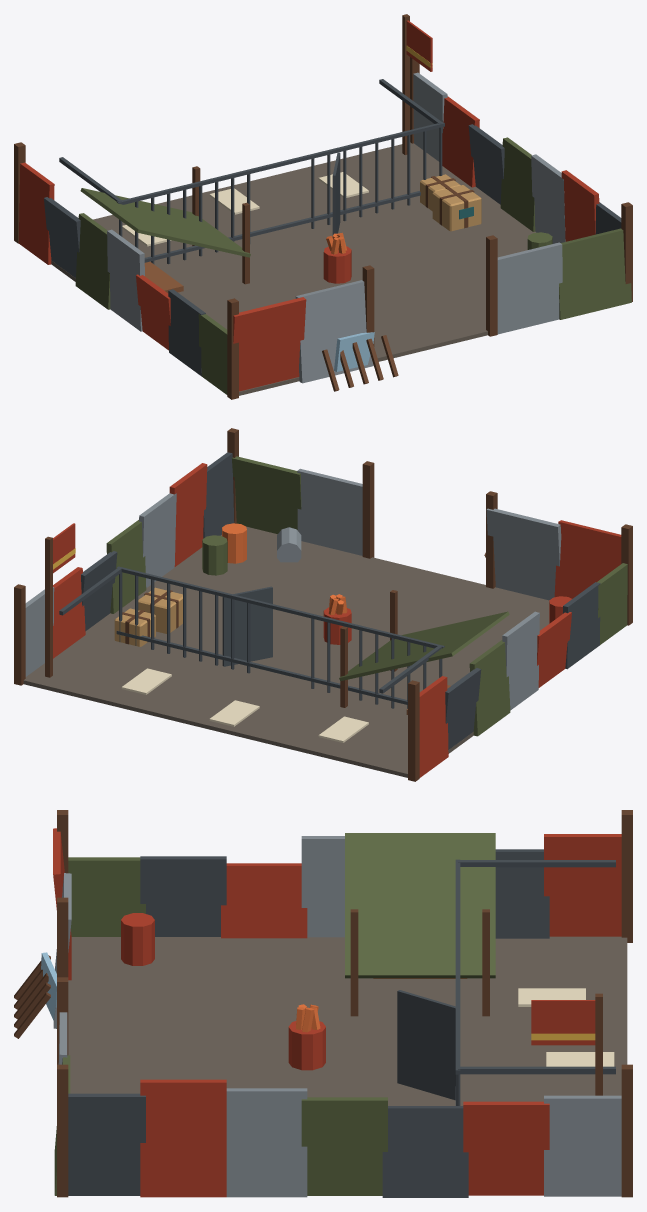
File: Bldg_RaiderCamp.fbx
3 renders of one model, top to bottom at view 1: azimuth 30°, elevation 25°; view 2: azimuth 150°, elevation 25°; view 3: azimuth 270°, elevation 25°, orthographic. The views are drawn at different scales.
Visible parts, largest first — view 1: Ground, Decor, Barricade1, Barricade4, Barricade3, Barricade2, Barricade8, Barricade11, Barricade9, Barricade15, Barricade14, Barricade17 (+11 smaller); view 2: Ground, Decor, Barricade2, Barricade3, Barricade4, Barricade1, Barricade13, Barricade8, Barricade9, Barricade14, Barricade11, Barricade6 (+13 smaller); view 3: Ground, Decor, Barricade13, Barricade14, Barricade15, Barricade17, Barricade12, Barricade18, Barricade16, Barricade11, Barricade6, Barricade7 (+7 smaller).
Boxes of the visible parts, box(x1,y1,x2,y2) form: Ground: box(51, 142, 535, 395); Decor: box(14, 14, 632, 399); Barricade1: box(233, 297, 306, 391); Barricade4: box(559, 228, 631, 319); Barricade3: box(497, 242, 562, 334); Barricade2: box(295, 280, 373, 383); Barricade8: box(107, 229, 144, 331); Barricade11: box(18, 162, 54, 264); Barricade9: box(75, 213, 110, 309); Barricade15: box(500, 137, 535, 231); Barricade14: box(531, 154, 565, 243); Barricade17: box(442, 96, 479, 187); Ground: box(23, 526, 549, 777); Decor: box(14, 428, 632, 781); Barricade2: box(486, 508, 561, 600); Barricade3: box(297, 468, 362, 555); Barricade4: box(232, 456, 301, 534); Barricade1: box(554, 520, 621, 598); Barricade13: box(169, 463, 207, 566); Barricade8: box(502, 611, 539, 710); Barricade9: box(469, 640, 510, 736); Barricade14: box(139, 493, 176, 587); Barricade11: box(419, 676, 448, 777); Barricade6: box(563, 582, 600, 669); Ground: box(68, 936, 627, 1105); Decor: box(14, 810, 632, 1197); Barricade13: box(140, 1079, 226, 1197); Barricade14: box(226, 1088, 307, 1197); Barricade15: box(301, 1097, 387, 1195); Barricade17: box(463, 1101, 549, 1195); Barricade12: box(68, 1093, 145, 1195); Barricade18: box(544, 1095, 621, 1196); Barricade16: box(382, 1106, 468, 1197); Barricade11: box(544, 834, 621, 936); Barricade6: box(140, 856, 226, 936); Barricade7: box(221, 863, 307, 938).
Size of the model in its own units: 32.86 by 11.21 by 32.88.
